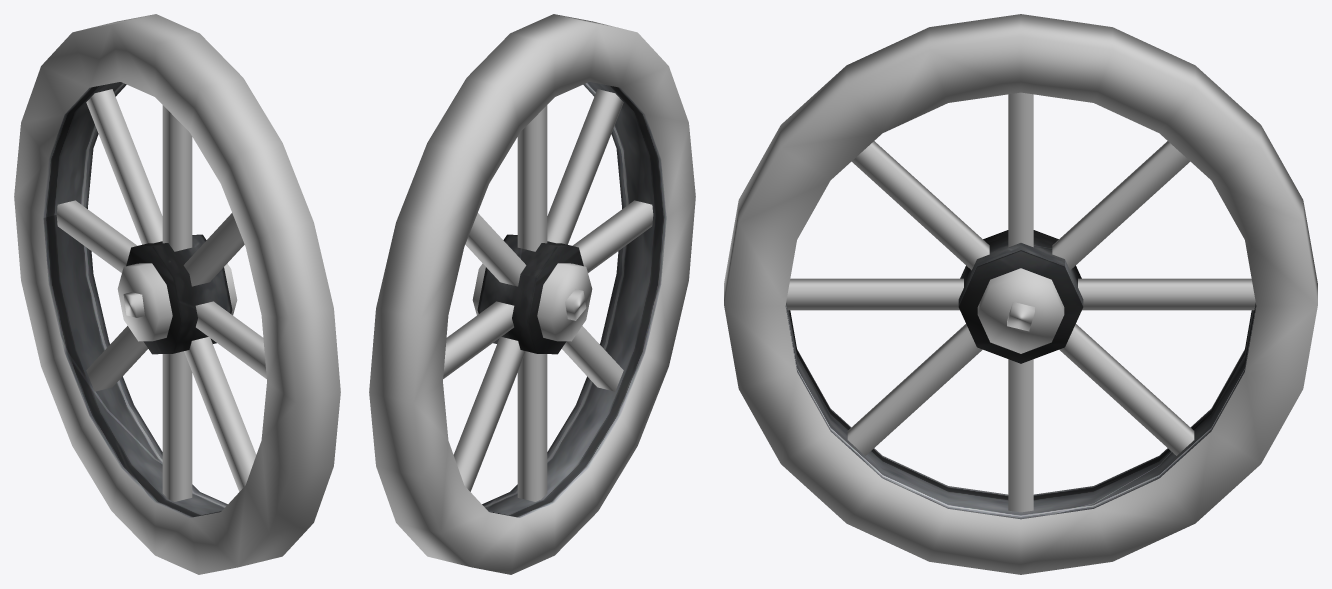
The model's file is Wheel.fbx.
The picture shows the model from 3 angles, left to right: view 1: azimuth 30°, elevation 25°; view 2: azimuth 150°, elevation 25°; view 3: azimuth 270°, elevation 25°; orthographic projection. The views are drawn at different scales.
Parts seen in each view (by area): view 1: Mesh; view 2: Mesh; view 3: Mesh.
Part boxes in pixels (<box>): Mesh: <box>14,14,340,574</box>; Mesh: <box>369,14,695,574</box>; Mesh: <box>724,14,1317,574</box>.
Size of the model in its own units: 25.68 by 133 by 133.
